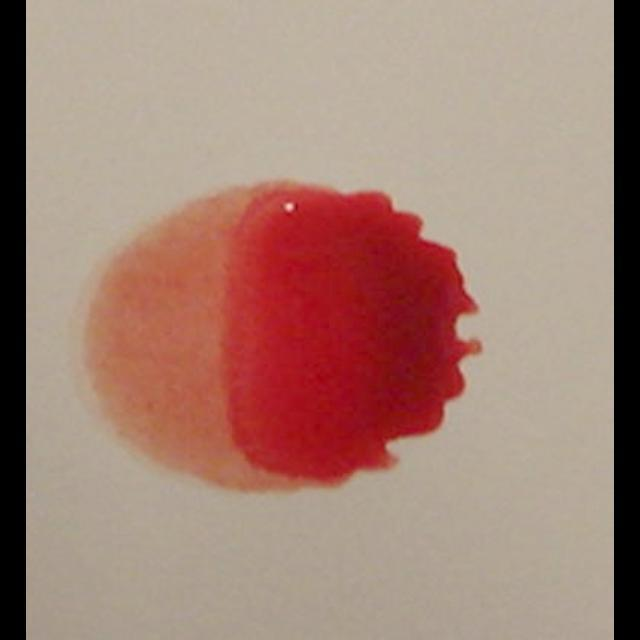blood: (81, 182, 482, 493)
